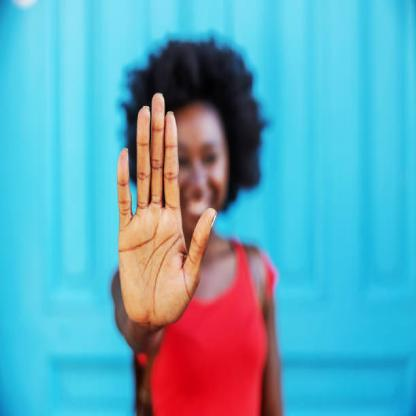stop: (114, 90, 216, 334)
